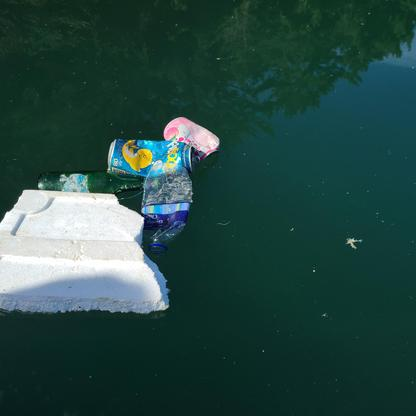can: (106, 138, 199, 176), (164, 116, 221, 160)
foam: (1, 189, 171, 317)
plastic bottle: (141, 162, 192, 251)
